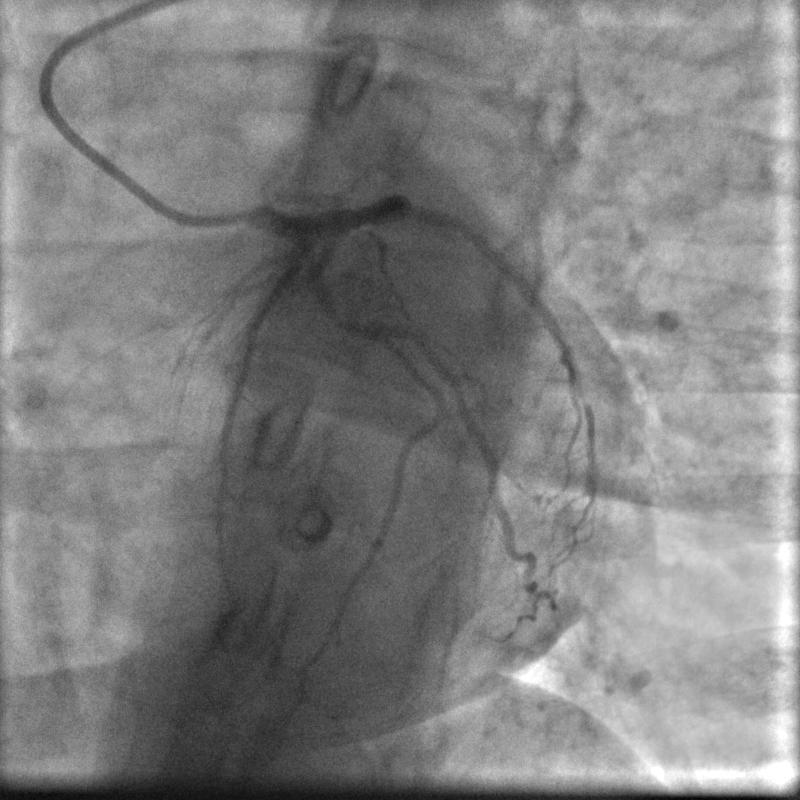Stenosis: (331, 296, 370, 345)
